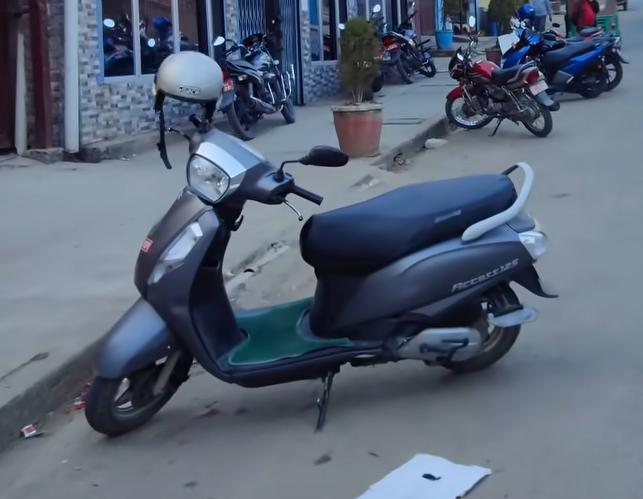bike: (442, 30, 560, 140), (209, 22, 300, 140)
scooter: (76, 111, 567, 446)
